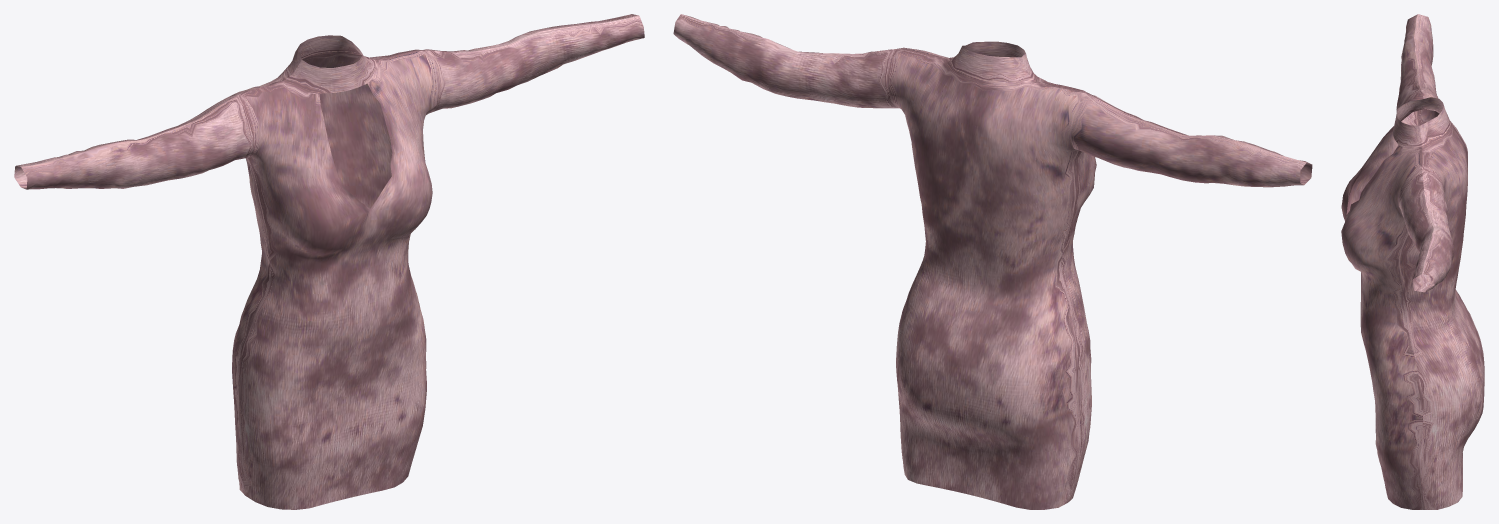
The model's file is small_velvetDress_noinside_new2.obj.
The picture shows the model from 3 angles, left to right: view 1: azimuth 30°, elevation 25°; view 2: azimuth 150°, elevation 25°; view 3: azimuth 270°, elevation 25°; orthographic projection. The views are drawn at different scales.
Visible parts, largest first — view 1: small_velvetDress_noinside_new:polySurface1; view 2: small_velvetDress_noinside_new:polySurface1; view 3: small_velvetDress_noinside_new:polySurface1.
Boxes of the visible parts, <box> form: small_velvetDress_noinside_new:polySurface1: <box>14,14,644,509</box>; small_velvetDress_noinside_new:polySurface1: <box>673,14,1312,509</box>; small_velvetDress_noinside_new:polySurface1: <box>1341,14,1484,509</box>.
Size of the model in its own units: 11.59 by 7.79 by 2.71.
8 materials, 8 textured.
